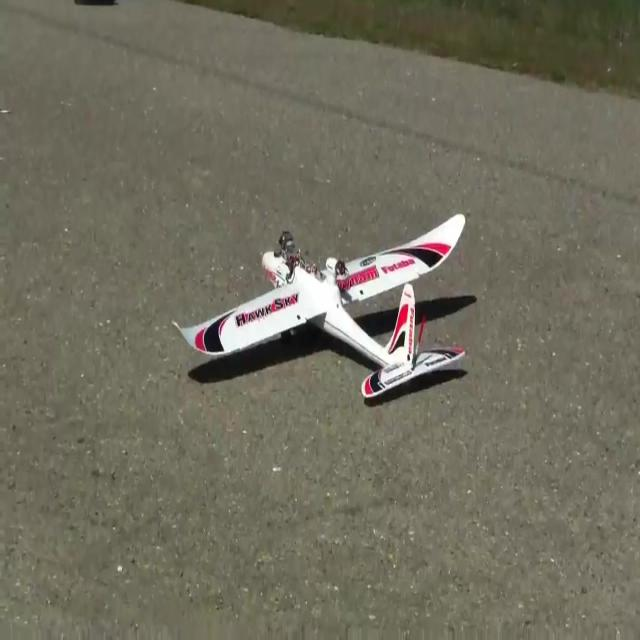iha: (170, 212, 468, 402)
